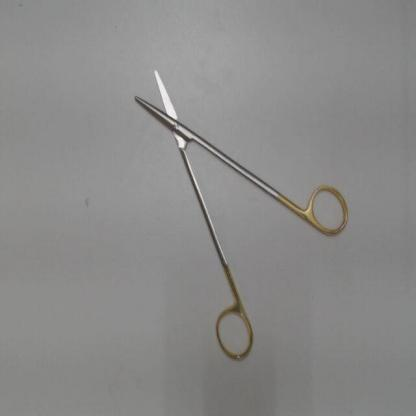7 Metzenbaum Scissors: (127, 63, 357, 369)
